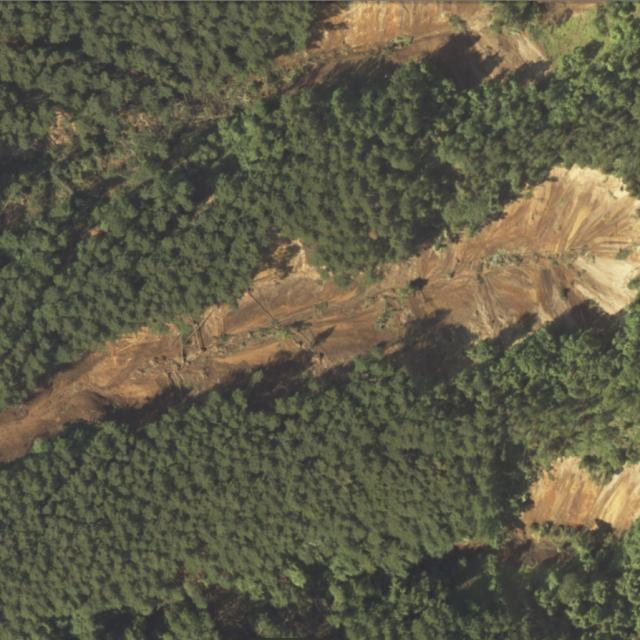landslide: (0, 166, 640, 459), (276, 1, 549, 86), (522, 457, 640, 532), (542, 2, 600, 23)
